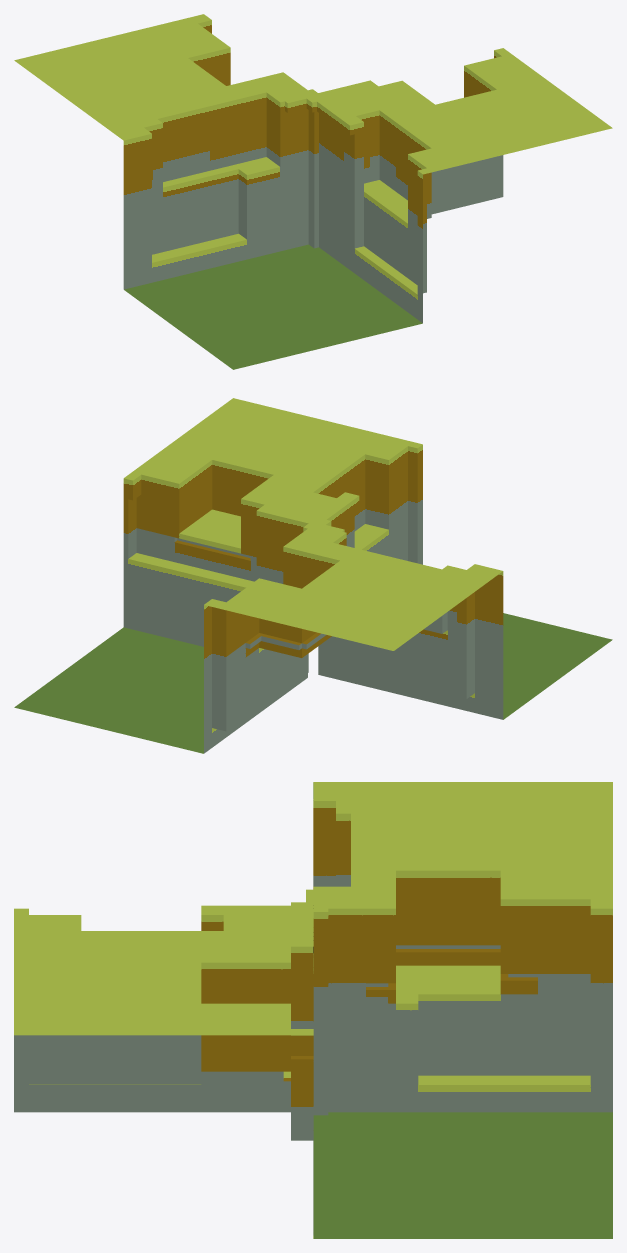
Rendered from MLML(1).glb.
3 views of the same model, one above another, from view 1: azimuth 30°, elevation 25°; view 2: azimuth 150°, elevation 25°; view 3: azimuth 270°, elevation 25° (orthographic). The views are drawn at different scales.
Parts seen in each view (by area): view 1: model_0.008; view 2: model_0.008; view 3: model_0.008.
Part boxes in pixels (x1,y1,x2,y2): model_0.008: [14, 14, 612, 369]; model_0.008: [14, 398, 612, 753]; model_0.008: [14, 782, 612, 1238].
Bounding box in the file's own units: 80 × 30 × 80.
1 material, 1 textured.
